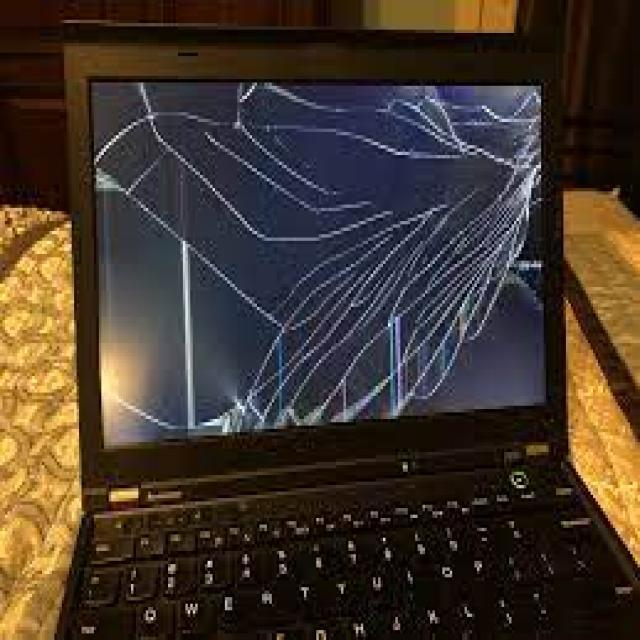Screen cracks: (108, 82, 542, 410)
